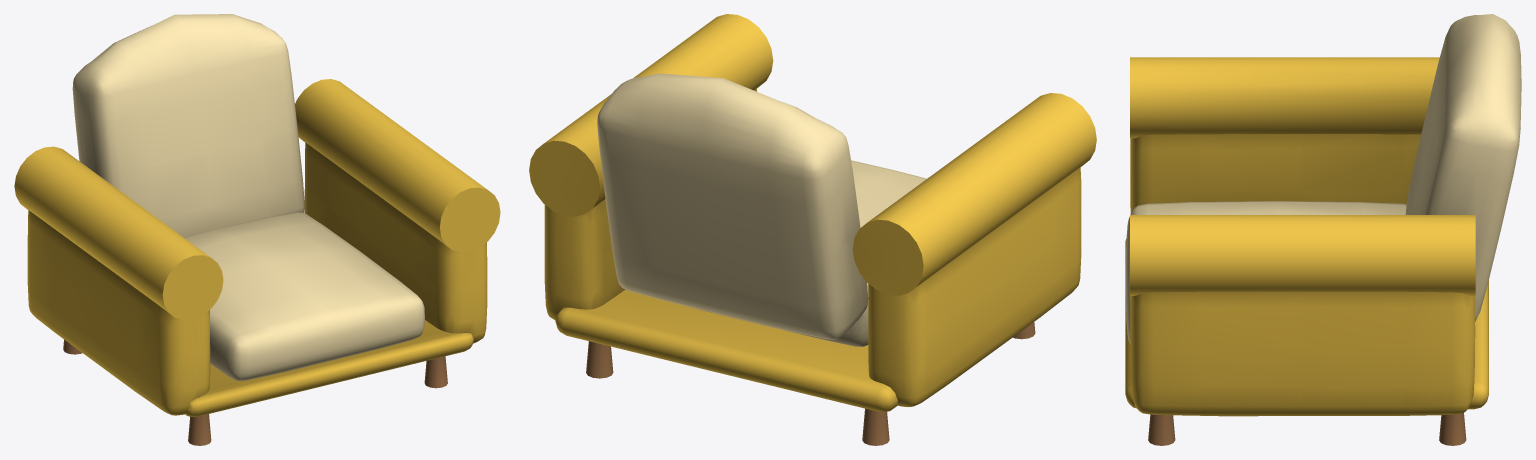
The model's file is armchair-butter.glb.
3 renders of one model, left to right at view 1: azimuth 30°, elevation 25°; view 2: azimuth 150°, elevation 25°; view 3: azimuth 270°, elevation 25°, orthographic. The views are drawn at different scales.
Parts seen in each view (by area): view 1: armchair-butter; view 2: armchair-butter; view 3: armchair-butter.
Boxes of the visible parts, <box> form: armchair-butter: <box>14,14,500,445</box>; armchair-butter: <box>529,14,1096,445</box>; armchair-butter: <box>1125,14,1521,445</box>.
Bounding box in the file's own units: 1 × 0.827 × 0.8716.
